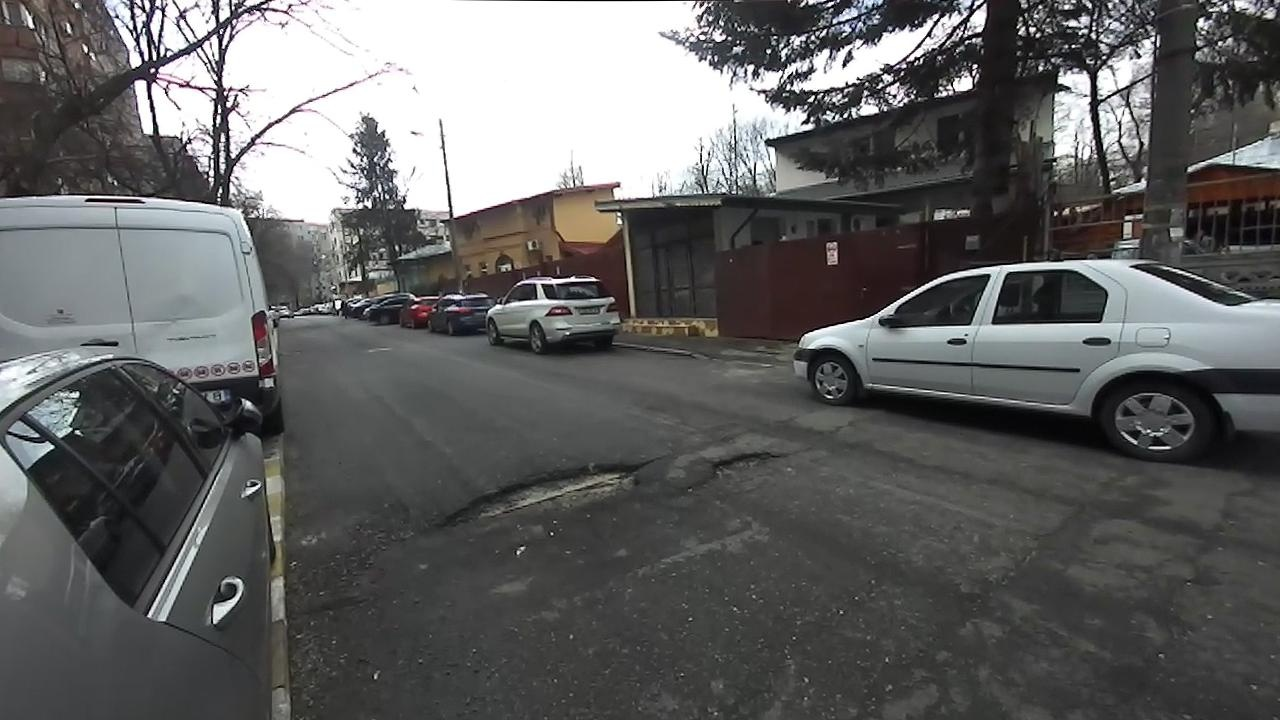pothole: (424, 452, 652, 535), (693, 447, 789, 489)
